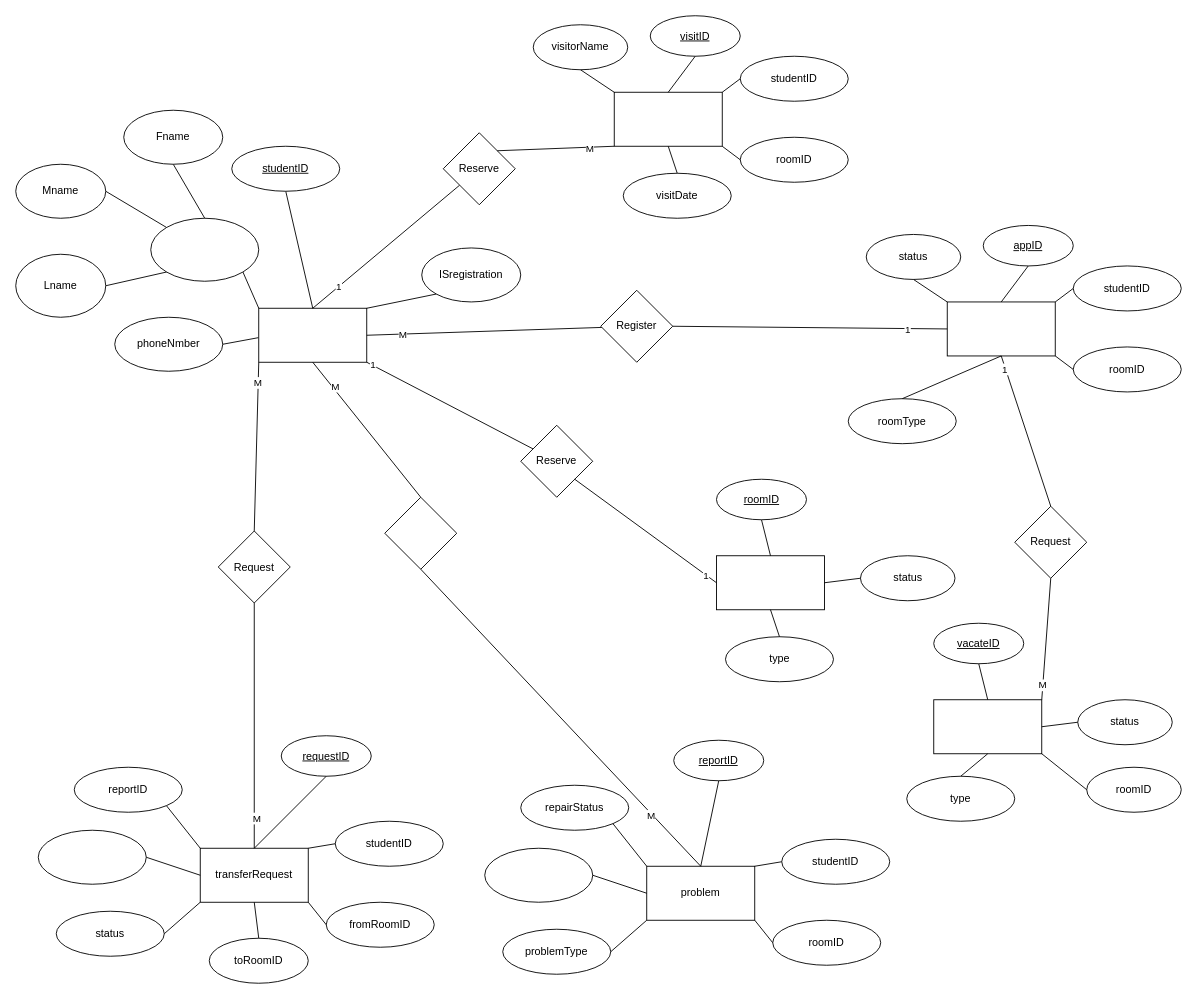
Image size: 1197x999. Some labels were removed from this diagram. Here are the shapes that lost their labels. From the top down, the centre of each, then its label:
At point (667, 118): "visit".
At point (204, 249): "fullName".
At point (312, 334): "student".
At point (1000, 328): "application".
At point (420, 532): "Report".
At point (770, 582): "room".
At point (987, 726): "vacateRoom".
At point (91, 856): "requestDate".
At point (538, 874): "reportDate".
